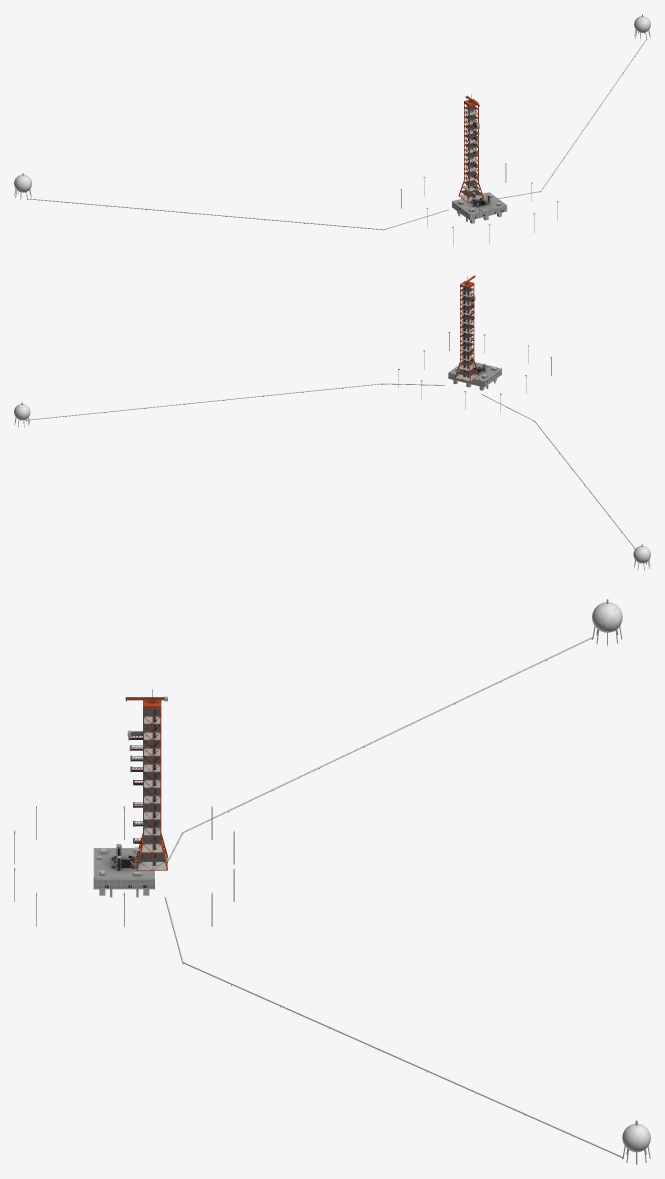
The model's file is launchpad.glb.
The picture shows the model from 3 angles, top to bottom: view 1: azimuth 30°, elevation 25°; view 2: azimuth 150°, elevation 25°; view 3: azimuth 270°, elevation 25°; orthographic projection. The views are drawn at different scales.
Parts seen in each view (by area): view 1: Site, Tower, Pad; view 2: Site, Tower, Pad; view 3: Site, Tower, Pad.
Boxes of the visible parts, left/top/right/bottom form: Site: left=14, top=14, right=650, bottom=246; Tower: left=458, top=94, right=484, bottom=202; Pad: left=452, top=192, right=507, bottom=223; Site: left=14, top=332, right=650, bottom=570; Tower: left=454, top=275, right=479, bottom=381; Pad: left=448, top=362, right=501, bottom=390; Site: left=14, top=599, right=650, bottom=1164; Tower: left=125, top=689, right=168, bottom=870; Pad: left=93, top=843, right=154, bottom=897.
Bounding box in the file's own units: 860 × 158 × 435.
Materials: 10 (8 with a texture image).
